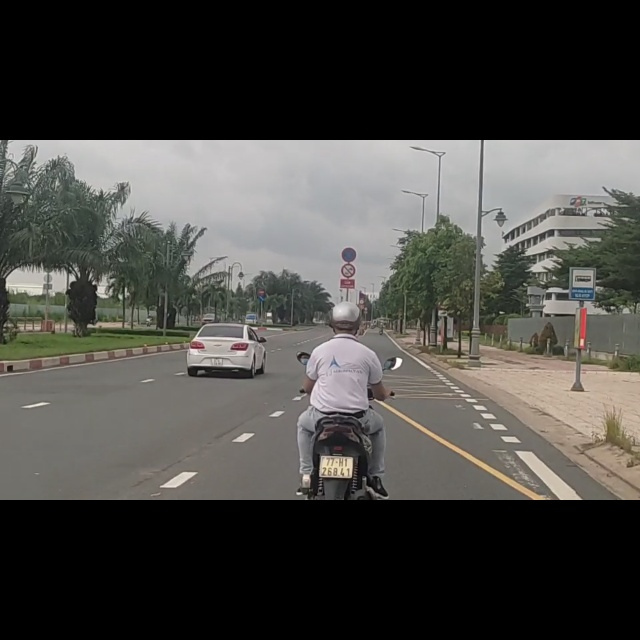bien_hieu_lenh: (568, 225, 597, 286), (341, 188, 357, 220), (339, 218, 356, 245)
